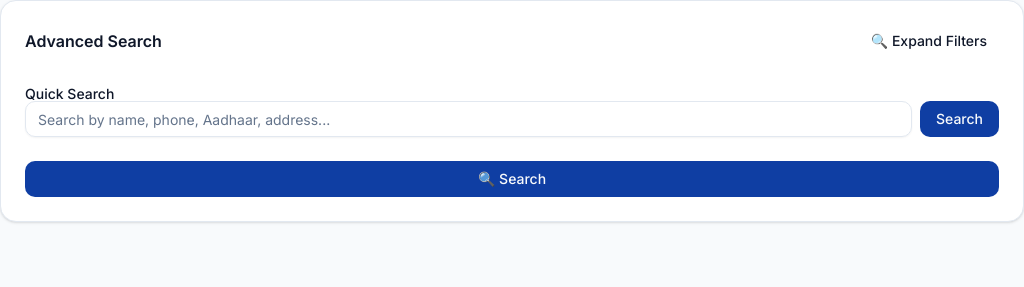
Test: AdvancedSearch Component › shows active filter count
This screenshot has width=1024, height=287.
Step 1. Type "test" into the field with placeholder "Search by name, phone, Aadhaar, address..." → [468, 119], box [25,101,912,137]
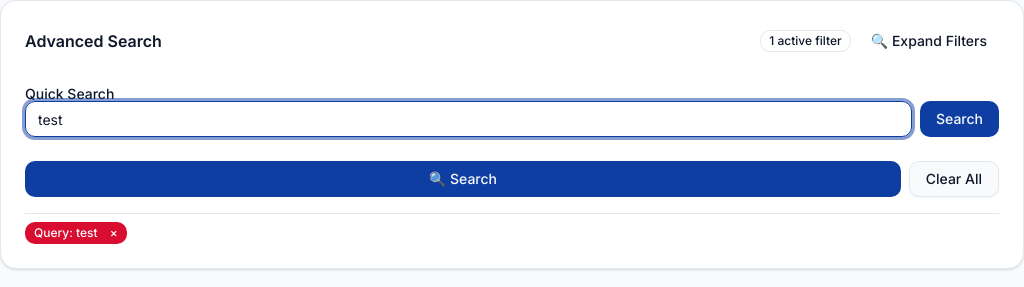
Expected: the text "1 active filter" is shown, [760,30,851,52]
